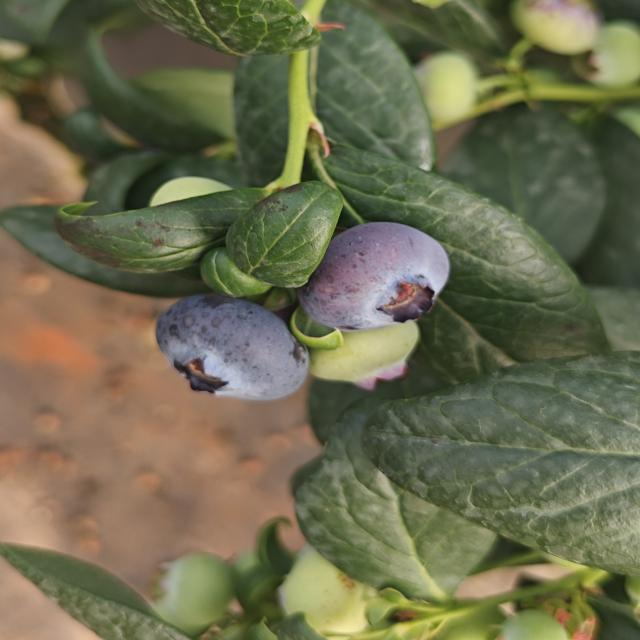ripe: (296, 220, 452, 333), (152, 292, 312, 402)
